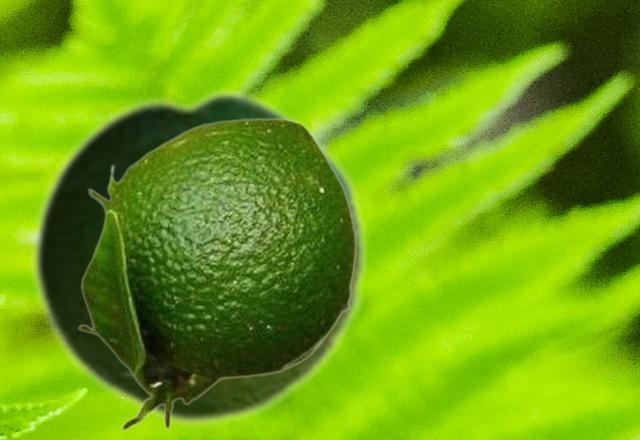dalandan: (29, 84, 369, 429), (76, 117, 356, 431)
